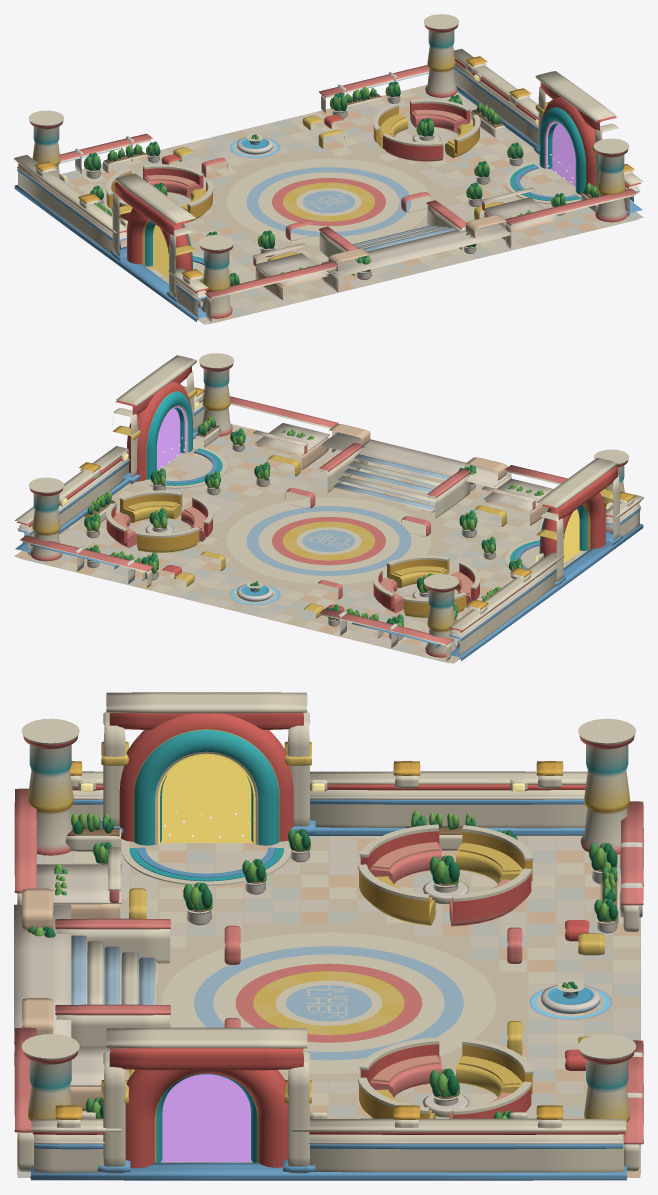
The model's file is duderworld-lobby-v0-2.glb.
The picture shows the model from 3 angles, top to bottom: view 1: azimuth 30°, elevation 25°; view 2: azimuth 150°, elevation 25°; view 3: azimuth 270°, elevation 25°; orthographic projection. The views are drawn at different scales.
Visible parts, largest first — view 1: Static level - vertex colours, Portal panels; view 2: Static level - vertex colours, Portal panels; view 3: Static level - vertex colours, Portal panels.
Boxes of the visible parts, <box> form: Static level - vertex colours: <box>14,14,643,324</box>; Portal panels: <box>63,74,575,278</box>; Static level - vertex colours: <box>14,353,643,663</box>; Portal panels: <box>62,401,610,604</box>; Static level - vertex colours: <box>14,692,643,1180</box>; Portal panels: <box>81,753,608,1162</box>.
Size of the model in its own units: 32.6 by 6 by 24.23.
